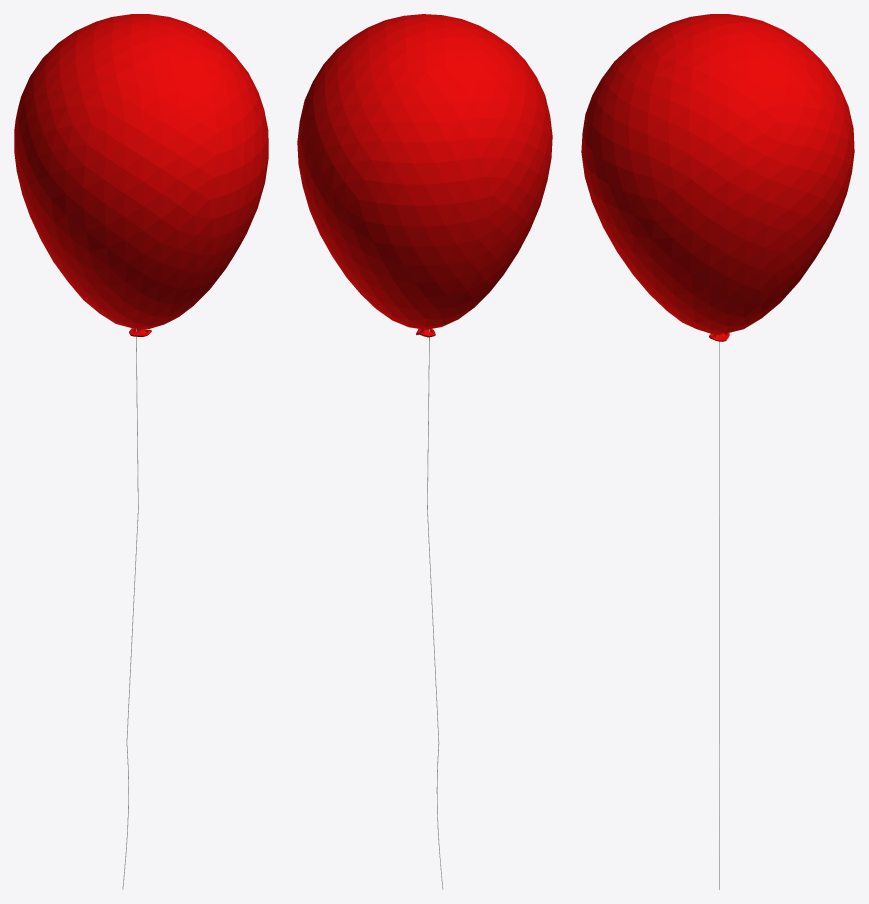
File: fin_balloon.fbx
The picture shows the model from 3 angles, left to right: view 1: azimuth 30°, elevation 25°; view 2: azimuth 150°, elevation 25°; view 3: azimuth 270°, elevation 25°; orthographic projection.
Parts seen in each view (by area): view 1: GeoSphere0, Line02; view 2: GeoSphere0, Line02; view 3: GeoSphere0, Line02.
Boxes of the visible parts, left/top/right/bottom form: GeoSphere0: left=14, top=14, right=268, bottom=329; Line02: left=122, top=328, right=138, bottom=889; GeoSphere0: left=297, top=14, right=552, bottom=329; Line02: left=427, top=329, right=443, bottom=889; GeoSphere0: left=581, top=14, right=854, bottom=333; Line02: left=719, top=341, right=719, bottom=889.
Bounding box in the file's own units: 0.0984 × 0.3718 × 0.1055.
